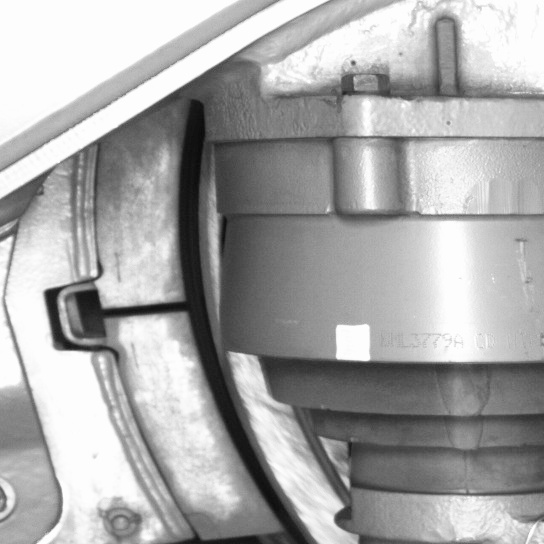KnifeSwitch: (127, 141, 317, 541)
